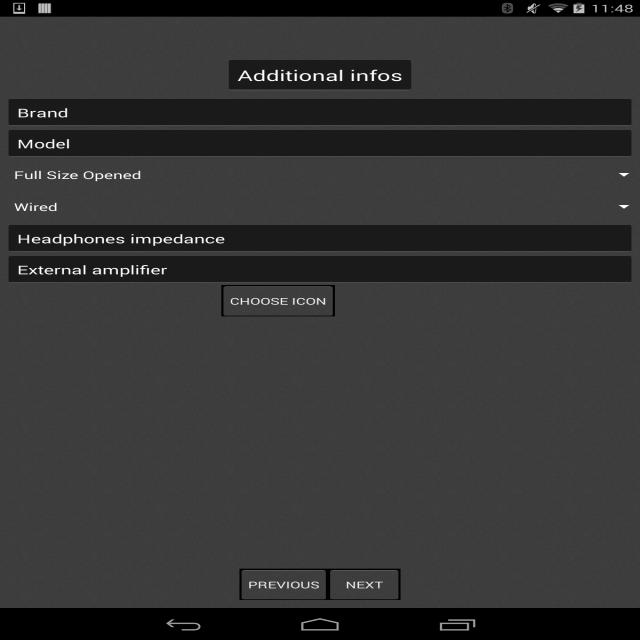Button: (221, 285, 335, 317), (239, 568, 328, 600), (328, 568, 401, 600)
CheckedTextView: (5, 159, 618, 191), (5, 191, 618, 223)
EditText: (9, 99, 632, 126), (9, 130, 632, 157), (9, 225, 632, 252), (9, 256, 632, 283)
ImageView: (367, 285, 418, 317)
Spinner: (5, 159, 635, 191), (5, 191, 635, 223)
TextView: (229, 60, 411, 90)
